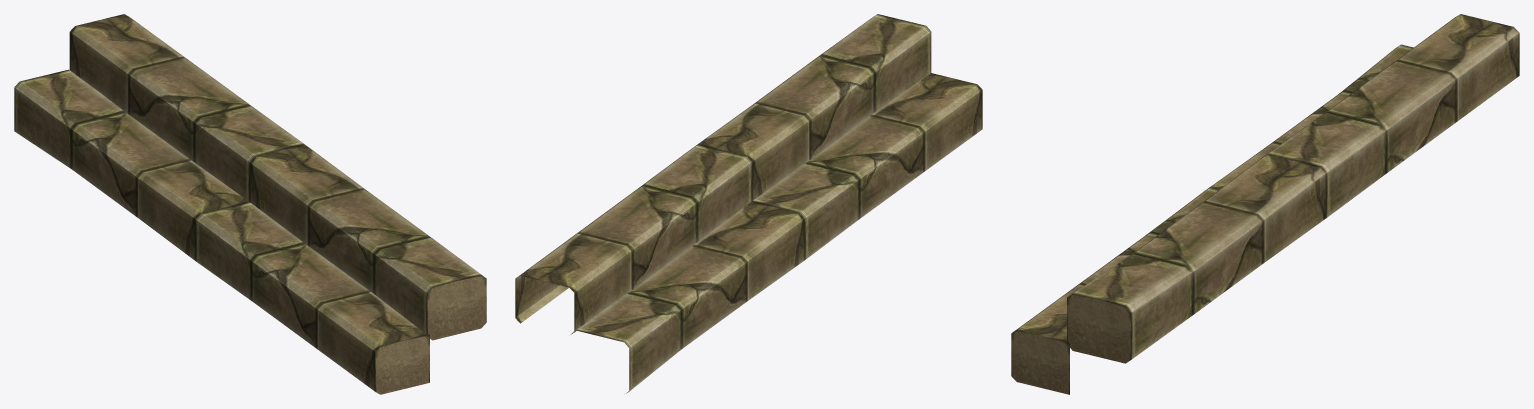
File: temple stairs.FBX
3 renders of one model, left to right at view 1: azimuth 30°, elevation 25°; view 2: azimuth 150°, elevation 25°; view 3: azimuth 330°, elevation 25°, orthographic. The views are drawn at different scales.
Visible parts, largest first — view 1: Object004; view 2: Object004; view 3: Object004.
Boxes of the visible parts, x1,y1,x2,y2 form: Object004: (14,14,486,394); Object004: (515,14,982,393); Object004: (1011,14,1519,394).
Size of the model in its own units: 2.16 by 1.74 by 11.64.
